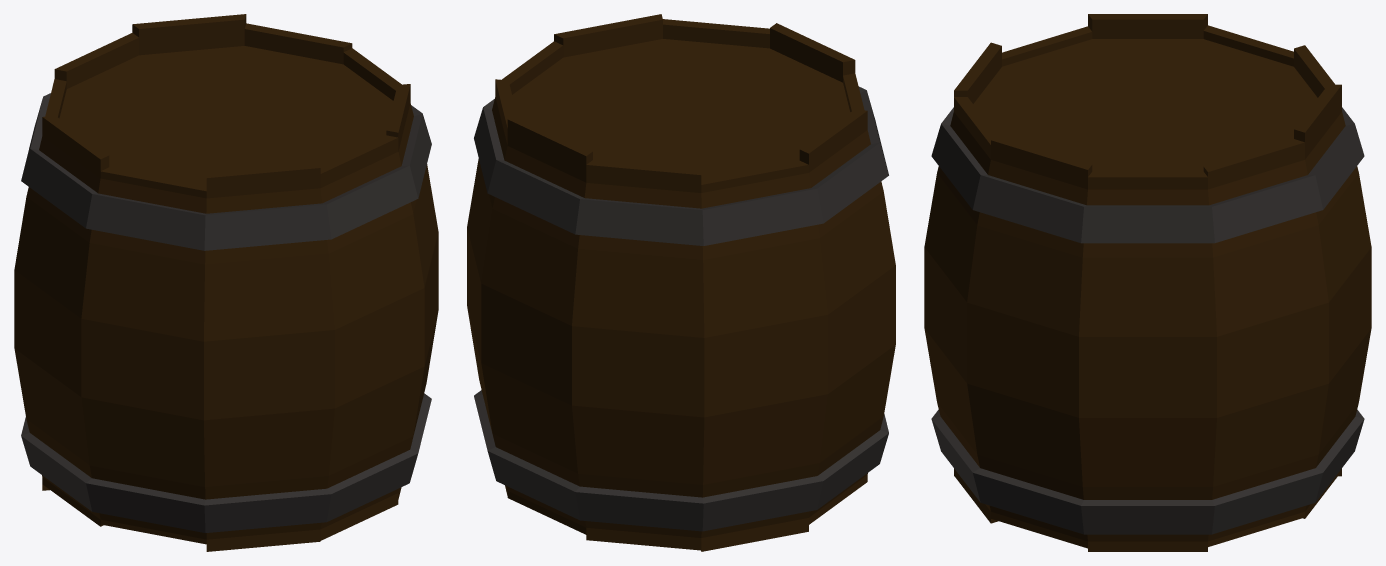
Rendered from Barrel3.glb.
The picture shows the model from 3 angles, left to right: view 1: azimuth 30°, elevation 25°; view 2: azimuth 150°, elevation 25°; view 3: azimuth 270°, elevation 25°; orthographic projection. The views are drawn at different scales.
Parts seen in each view (by area): view 1: Barrel_3; view 2: Barrel_3; view 3: Barrel_3.
Boxes of the visible parts, x1,y1,x2,y2 form: Barrel_3: (14, 14, 438, 551); Barrel_3: (467, 14, 895, 551); Barrel_3: (924, 14, 1371, 551).
Bounding box in the file's own units: 0.5818 × 0.5934 × 0.6118.
